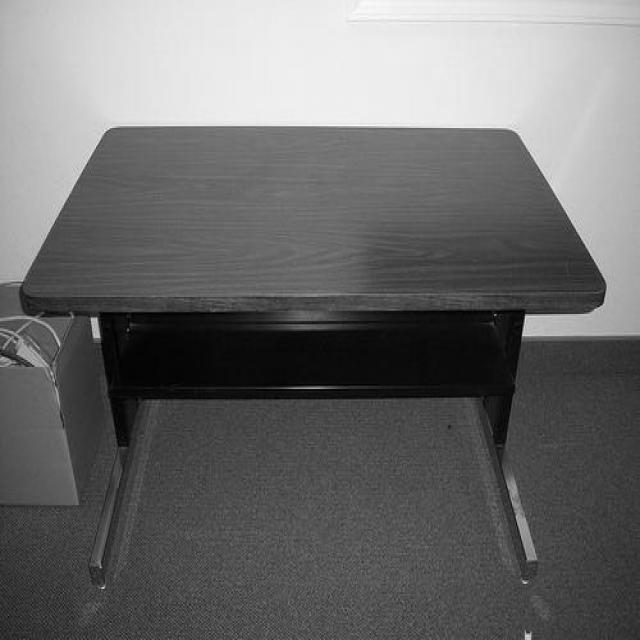table: (18, 121, 606, 587)
